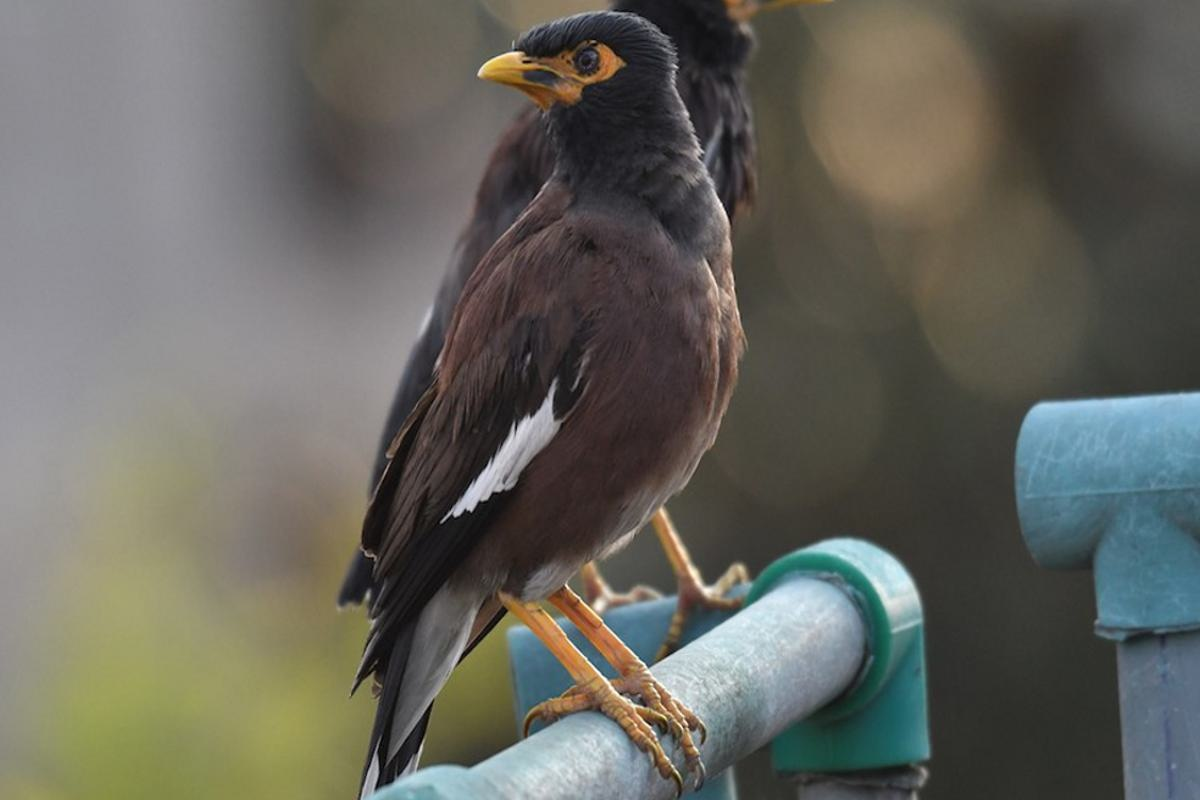myna: (310, 3, 711, 800)
